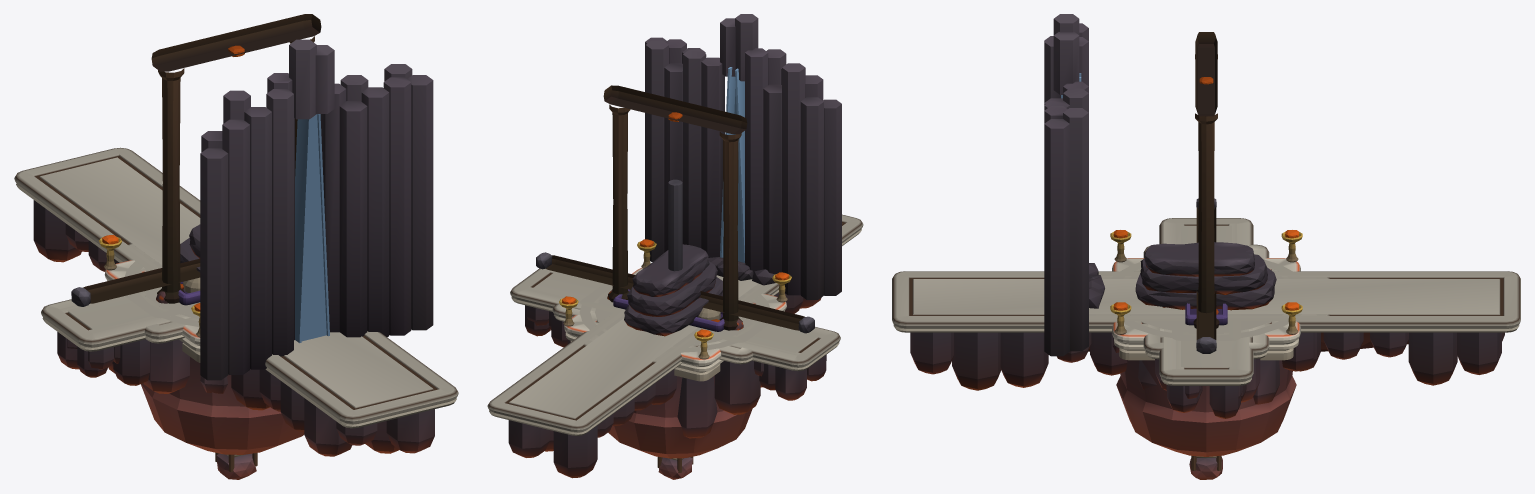
Rendered from volcano-6-CbbrQYJc.glb.
3 views of the same model, side by side, from view 1: azimuth 30°, elevation 25°; view 2: azimuth 150°, elevation 25°; view 3: azimuth 270°, elevation 25° (orthographic). The views are drawn at different scales.
Visible parts, largest first — view 1: crack_#0, block_8x2x40#0, pressFrame_7x6x3x7#0, disc_14x1.5#0, block_24x2x6#0, block_16x2x8#0, mount_10.6#0, pad_12x2x12#0, block_24x2x5#0, truss_11.6#0, block_14x2x5#0, spout_2x6#0; view 2: crack_#0, block_8x2x40#0, pressFrame_7x6x3x7#0, block_24x2x6#0, disc_14x1.5#0, spout_2x6#0, pad_12x2x12#0, mount_10.6#0, block_16x2x8#0, block_24x2x5#0, press_7.5x6x2.5#0, block_14x2x5#0 (+2 smaller); view 3: block_8x2x40#0, crack_#0, disc_14x1.5#0, spout_2x6#0, block_24x2x6#0, pressFrame_7x6x3x7#0, pad_12x2x12#0, block_24x2x5#0, block_16x2x8#0, block_7x2x16_ice#0, mount_10.6#0, block_14x2x5#0 (+1 smaller).
Boxes of the visible parts, x1,y1,x2,y2 form: crack_#0: (200,39,433,380); block_8x2x40#0: (14,147,458,456); pressFrame_7x6x3x7#0: (151,14,321,303); disc_14x1.5#0: (124,254,304,454); block_24x2x6#0: (41,292,186,385); block_16x2x8#0: (108,317,198,393); mount_10.6#0: (71,258,200,306); pad_12x2x12#0: (98,235,227,393); block_24x2x5#0: (47,303,156,377); truss_11.6#0: (215,452,257,479); block_14x2x5#0: (125,287,194,318); spout_2x6#0: (180,224,200,272); crack_#0: (645,14,841,299); block_8x2x40#0: (487,214,863,478); pressFrame_7x6x3x7#0: (603,85,747,330); block_24x2x6#0: (510,268,840,400); disc_14x1.5#0: (578,287,769,458); spout_2x6#0: (624,244,722,336); pad_12x2x12#0: (559,239,791,438); mount_10.6#0: (536,252,814,333); block_16x2x8#0: (552,303,762,414); block_24x2x5#0: (525,270,835,390); press_7.5x6x2.5#0: (668,179,682,271); block_14x2x5#0: (580,283,769,342); block_8x2x40#0: (892,271,1520,390); crack_#0: (1044,14,1104,356); disc_14x1.5#0: (1111,259,1301,456); spout_2x6#0: (1135,242,1276,310); block_24x2x6#0: (1159,218,1253,412); pressFrame_7x6x3x7#0: (1193,32,1219,328); pad_12x2x12#0: (1110,230,1302,404); block_24x2x5#0: (1176,223,1240,418); block_16x2x8#0: (1143,244,1269,402); block_7x2x16_ice#0: (1089,277,1330,375); mount_10.6#0: (1196,198,1216,353); block_14x2x5#0: (1172,314,1240,340).
Bounding box in the file's own units: 24 × 31.84 × 40.
